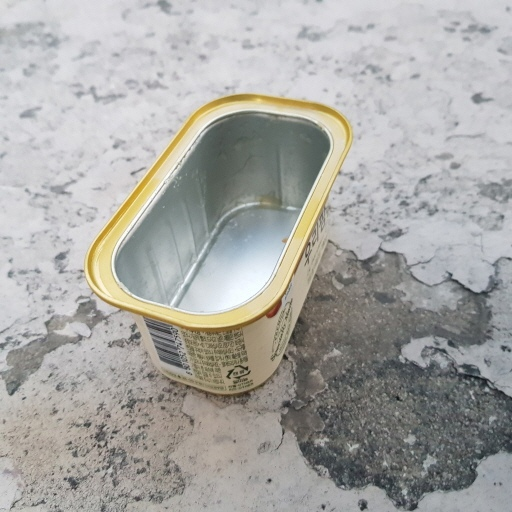Metal_2: (81, 90, 354, 397)
